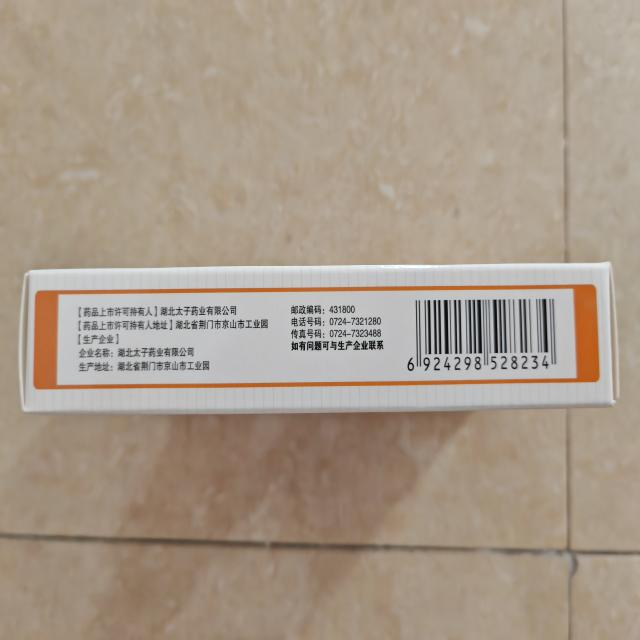box: (11, 242, 627, 439)
